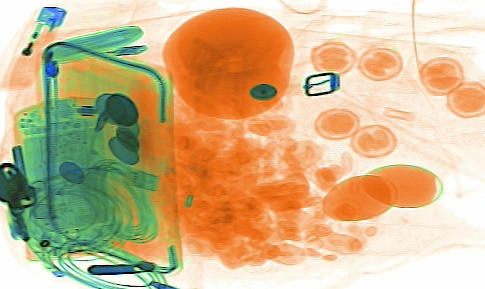lighter: (2, 3, 66, 93)
